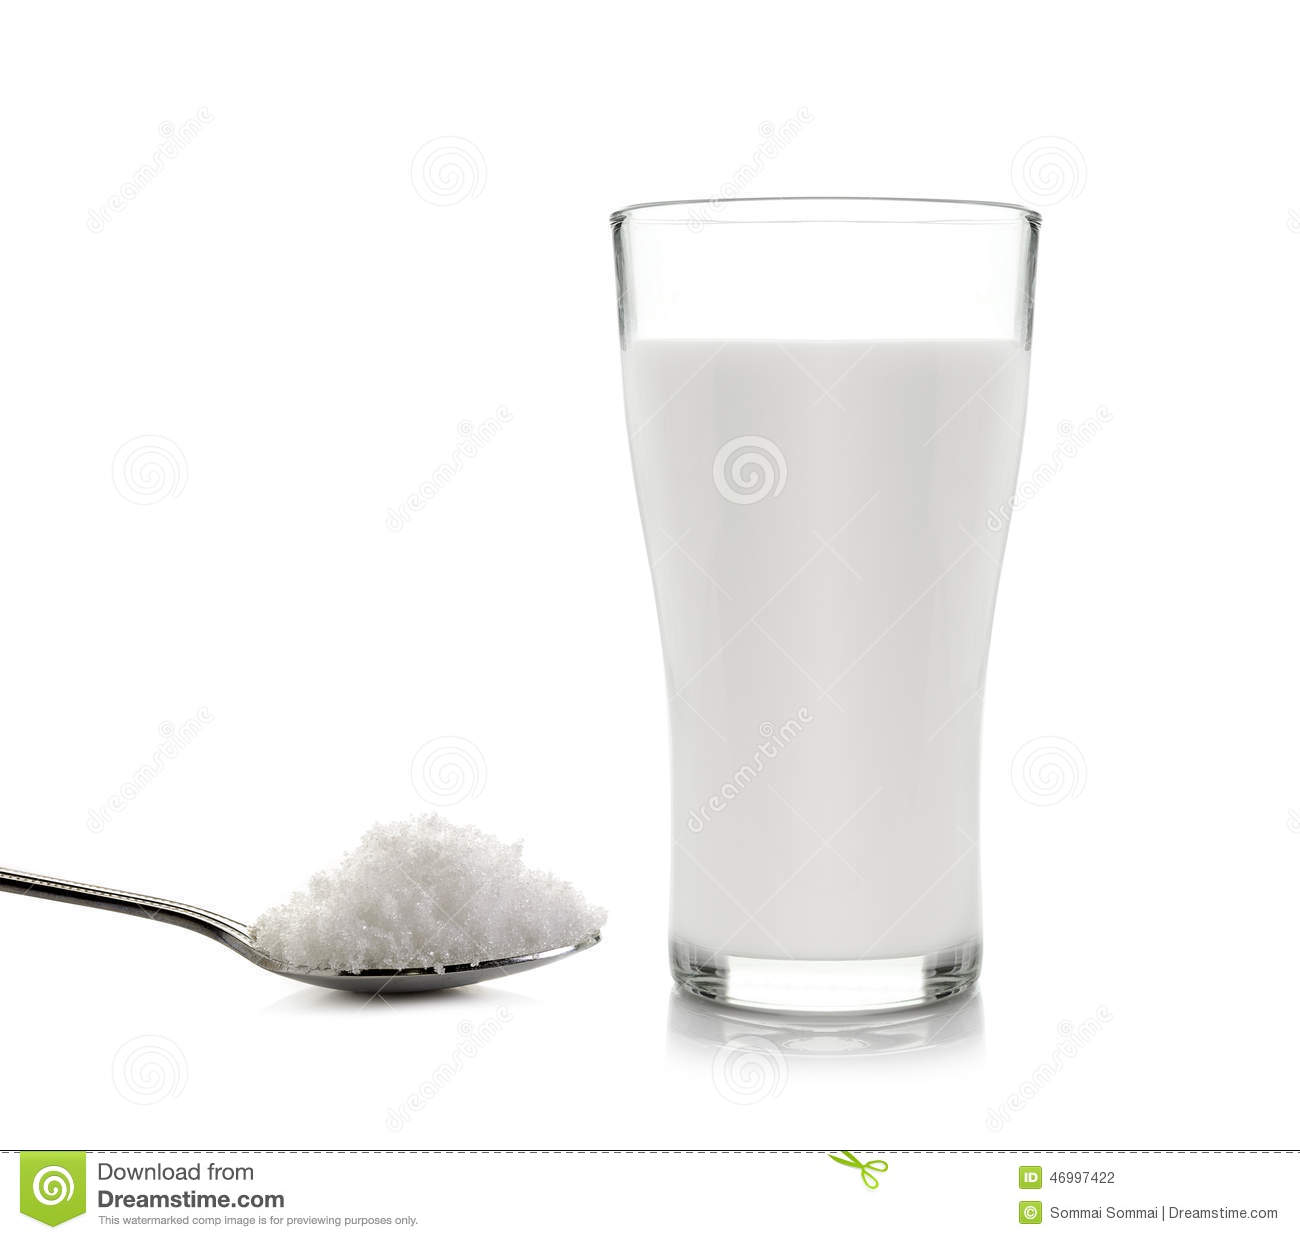glass of milk: (620, 223, 1001, 1040)
